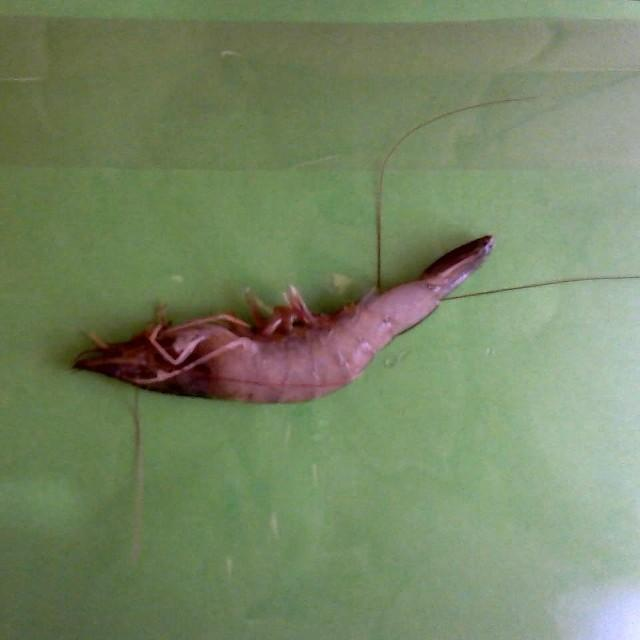shrimp: (73, 236, 495, 404)
